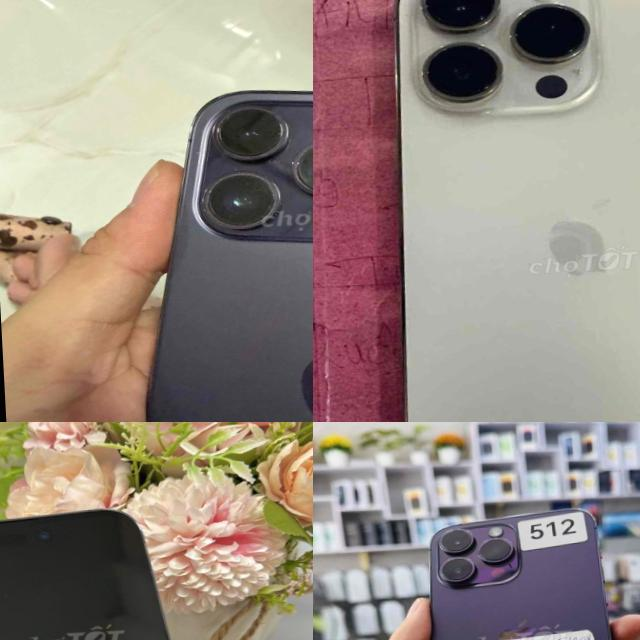gen_14: (88, 71, 313, 422), (0, 484, 247, 640), (416, 503, 635, 640)
